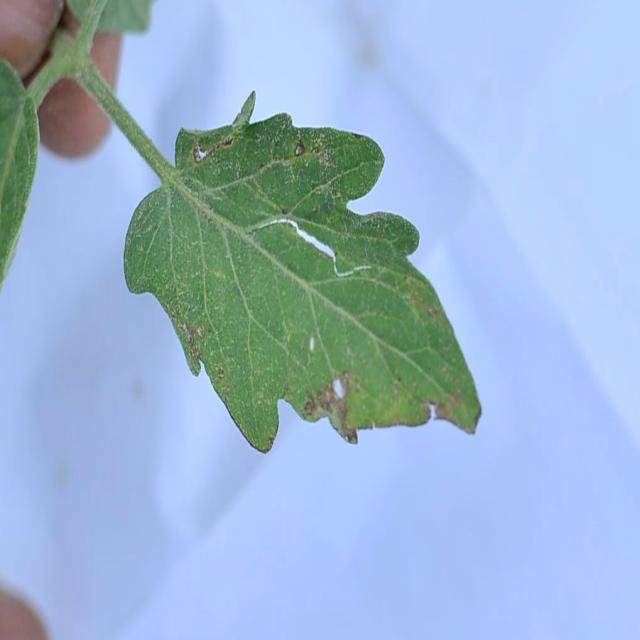infected: (185, 121, 482, 457)
